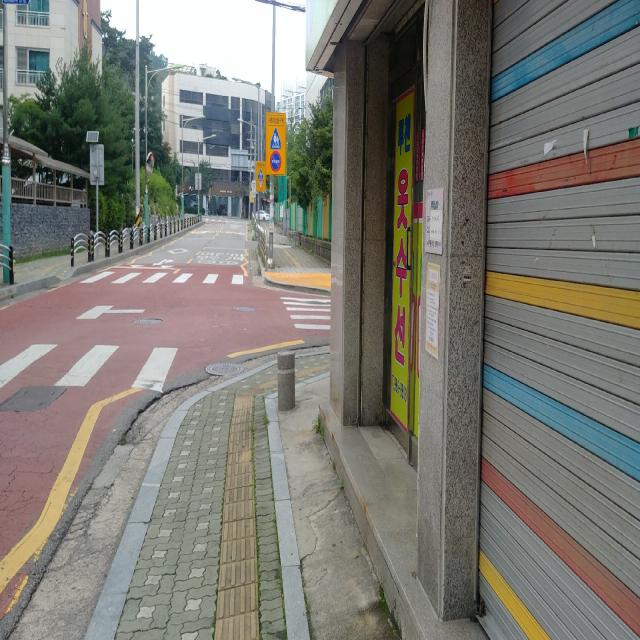횡단보도: (0, 336, 183, 398), (78, 268, 248, 289), (280, 296, 331, 330)
